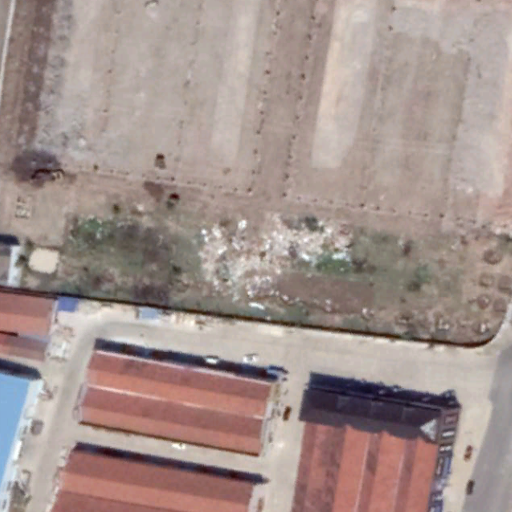msw: (202, 210, 356, 304)
